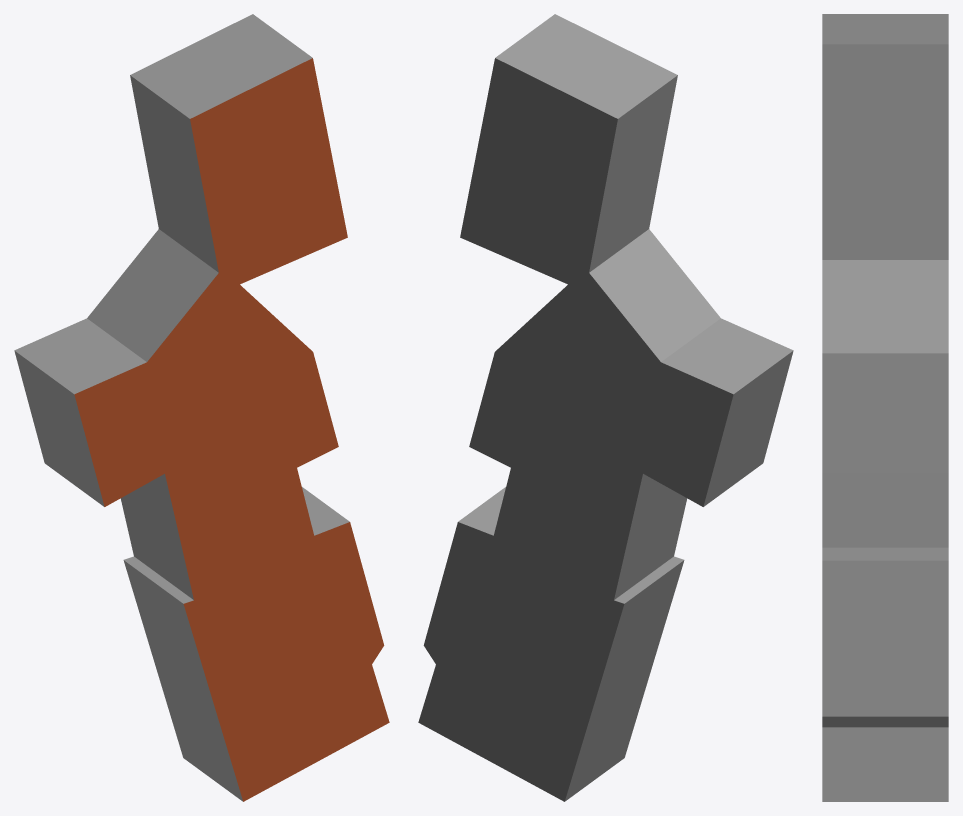
Rendered from construction_1991_assumed_A_Casa_h6m.obj.
3 views of the same model, side by side, from view 1: azimuth 30°, elevation 25°; view 2: azimuth 150°, elevation 25°; view 3: azimuth 270°, elevation 25° (orthographic). The views are drawn at different scales.
Parts seen in each view (by area): view 1: construction_1991_assumed_A_Casa; view 2: construction_1991_assumed_A_Casa; view 3: construction_1991_assumed_A_Casa.
Part boxes in pixels (box(x1,y1,x2,y2)): construction_1991_assumed_A_Casa: box(14, 14, 389, 801); construction_1991_assumed_A_Casa: box(418, 14, 793, 801); construction_1991_assumed_A_Casa: box(822, 14, 948, 801).
Bounding box in the file's own units: 18.19 × 40.08 × 6.
